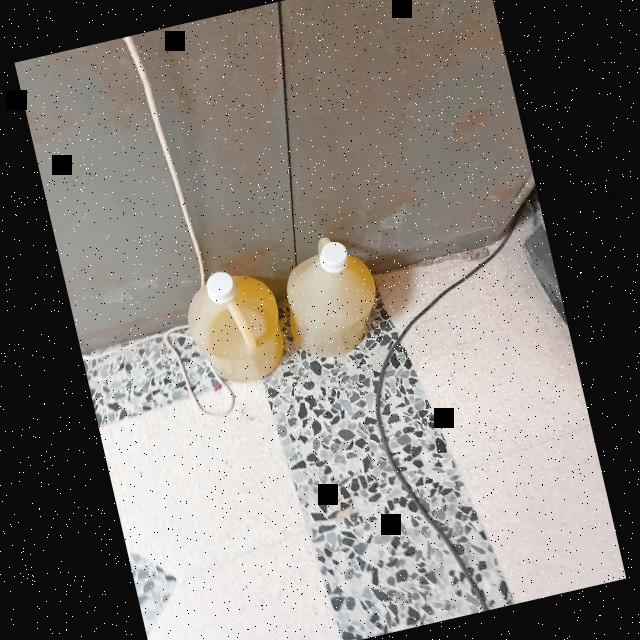chemical_plastic_gallon: (267, 218, 403, 372), (172, 252, 298, 397)
